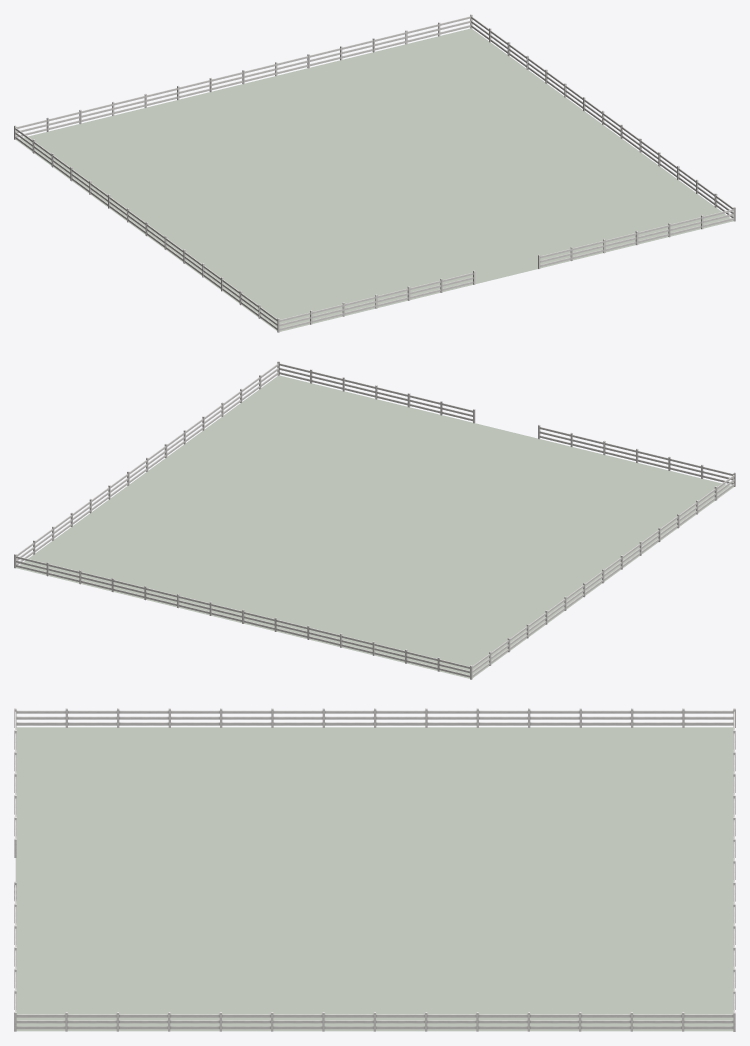
Rendered from Snow_Floor.glb.
The picture shows the model from 3 angles, top to bottom: view 1: azimuth 30°, elevation 25°; view 2: azimuth 150°, elevation 25°; view 3: azimuth 270°, elevation 25°; orthographic projection. The views are drawn at different scales.
Visible parts, largest first — view 1: Floor, Fence01.001, Fence04.001, Fence03.001, Fence02.001, Fence05.001; view 2: Floor, Fence01.001, Fence04.001, Fence03.001, Fence05.001, Fence02.001; view 3: Floor, Fence04.001, Fence03.001, Fence01.001.
Part boxes in pixels (x1,y1,x2,y2): Floor: (16,28,733,331); Fence01.001: (14,14,472,139); Fence04.001: (14,125,279,332); Fence03.001: (470,14,735,221); Fence02.001: (277,270,475,332); Fence05.001: (538,207,735,268); Floor: (16,375,733,678); Fence01.001: (14,554,472,678); Fence04.001: (470,472,735,679); Fence03.001: (14,361,279,568); Fence05.001: (277,361,475,423); Fence02.001: (538,425,735,486); Floor: (15,727,733,1031); Fence04.001: (14,708,735,727); Fence03.001: (14,1012,735,1031); Fence01.001: (733,708,735,1031).
Size of the model in its own units: 141 by 4.13 by 141.
Materials: 11 (10 with a texture image).
